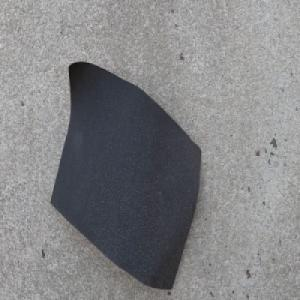PaintChip: (50, 59, 202, 291)
